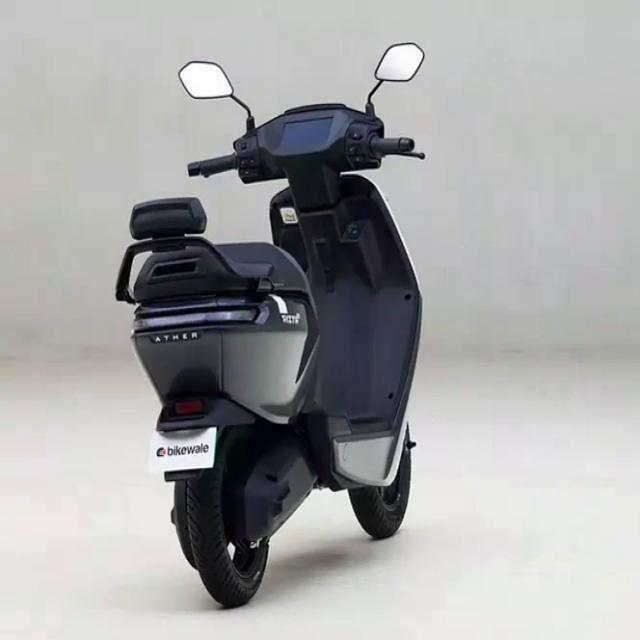objects: (100, 24, 458, 605)
